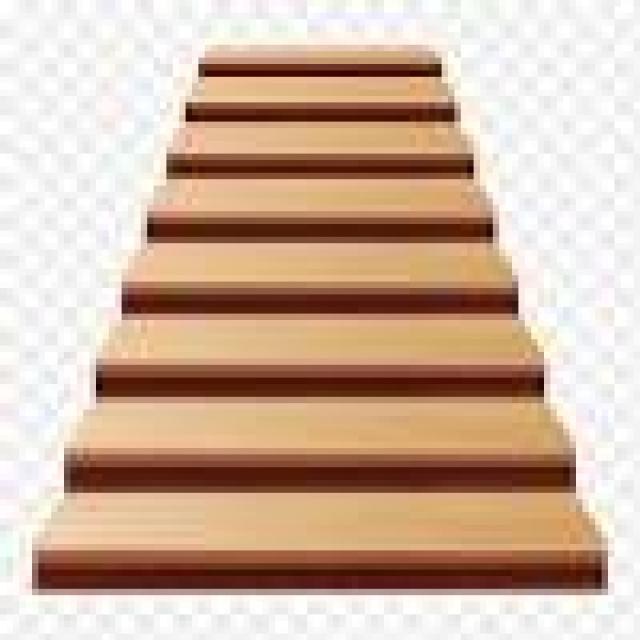Stair Up: (34, 43, 612, 590)
